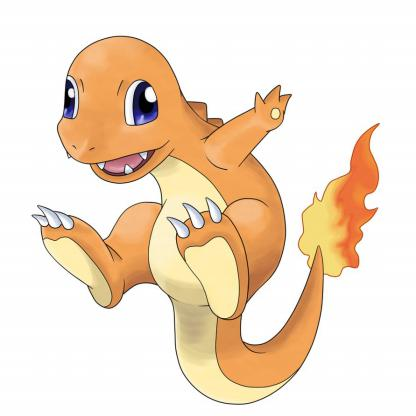Charmander: (29, 12, 416, 398)
